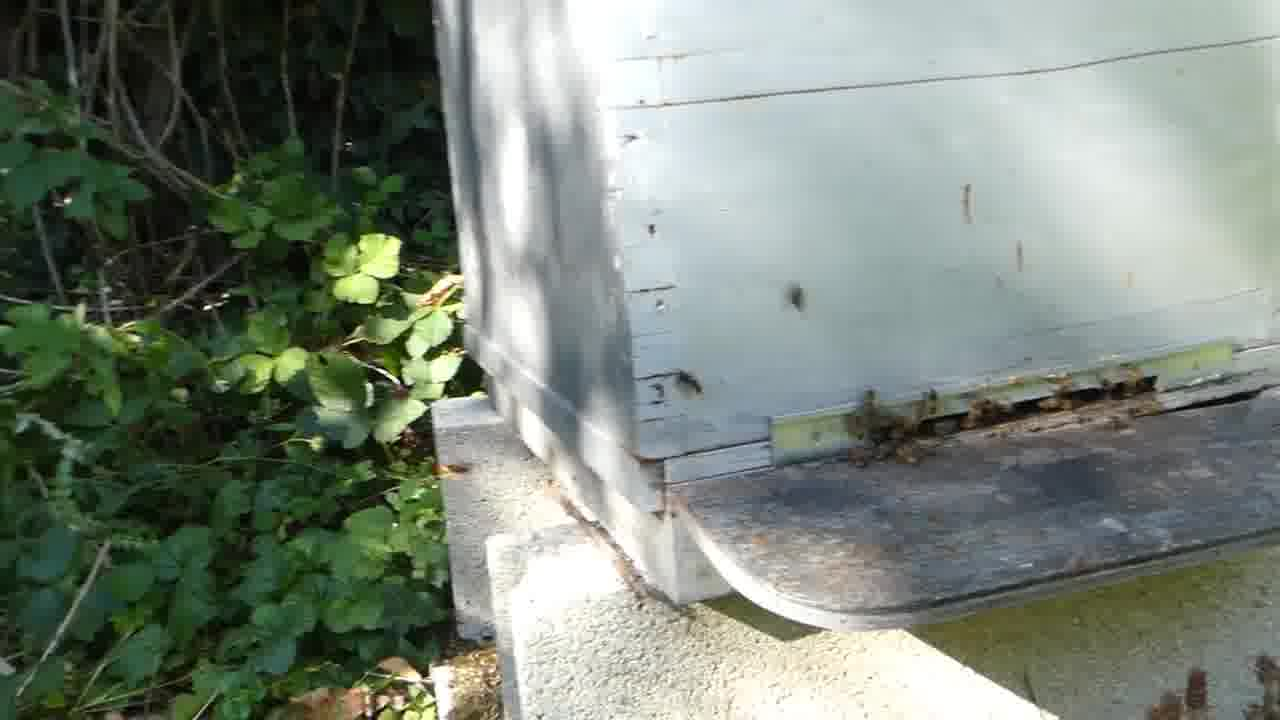bee: (676, 369, 709, 396)
